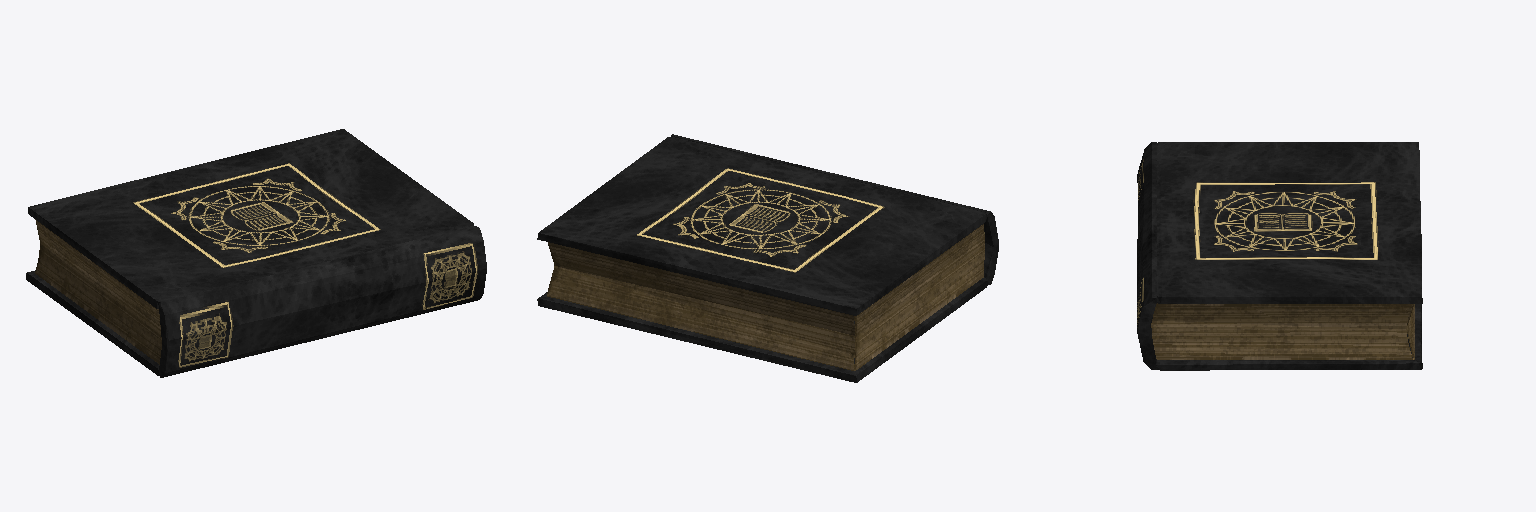
3 renders of one model, left to right at view 1: azimuth 30°, elevation 25°; view 2: azimuth 150°, elevation 25°; view 3: azimuth 270°, elevation 25°, orthographic.
Visible parts, largest first — view 1: BookA_BookA_0; view 2: BookA_BookA_0; view 3: BookA_BookA_0.
Part boxes in pixels (x1,y1,x2,y2): BookA_BookA_0: (26,129,486,377); BookA_BookA_0: (537,134,998,382); BookA_BookA_0: (1137,142,1422,370).
Size of the model in its own units: 1.43 by 0.3149 by 1.1.
Materials: 1 (1 with a texture image).